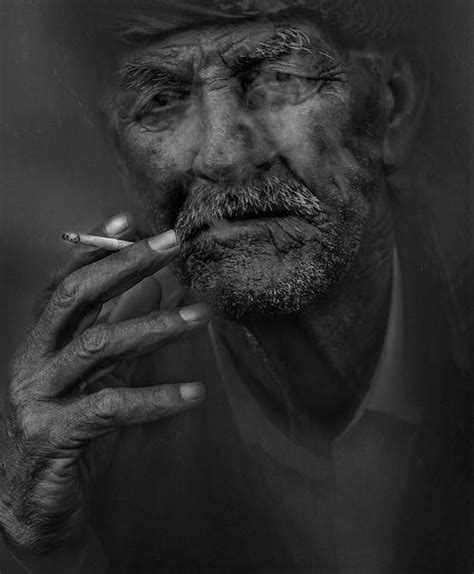cigarette: (58, 230, 136, 254)
